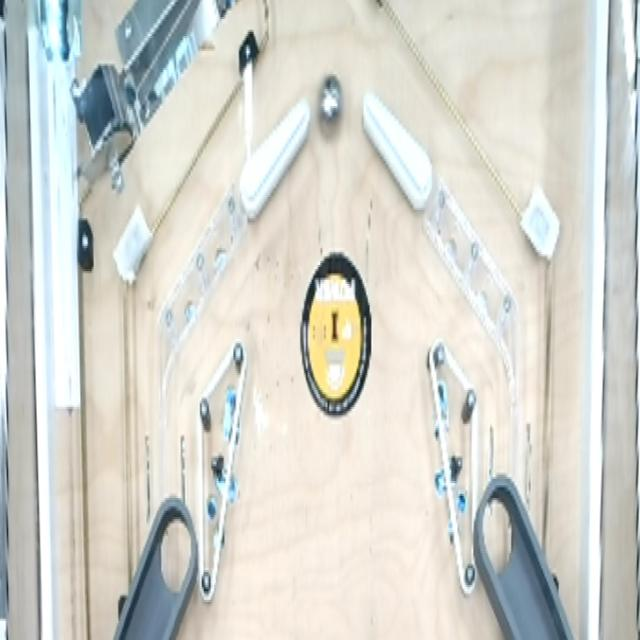ball: (316, 66, 344, 143)
flipper-left: (360, 83, 434, 214)
flipper-right: (234, 90, 313, 230)
